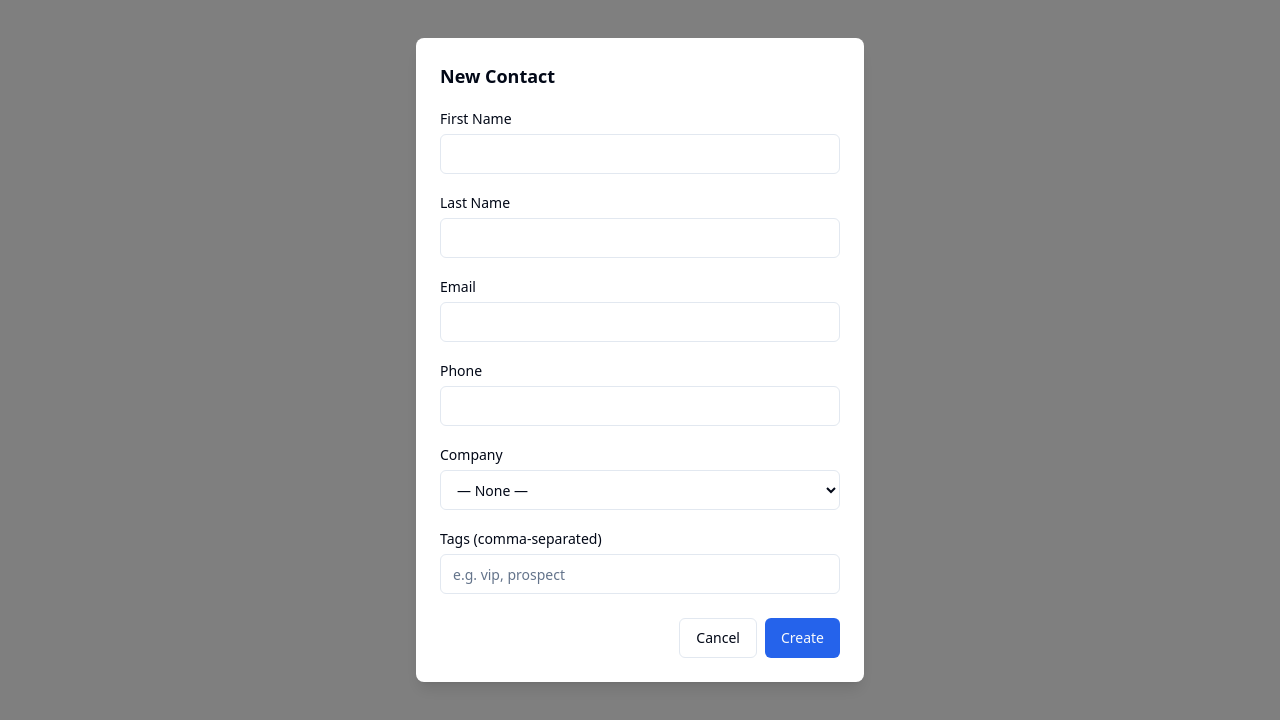
Test: CreateContact integration › shows email validation error for invalid email
This screenshot has width=1280, height=720.
Step 1. Type "Alice" into the field labelled "First Name" → x=640, y=154, box x1=440 y1=134 x2=840 y2=174
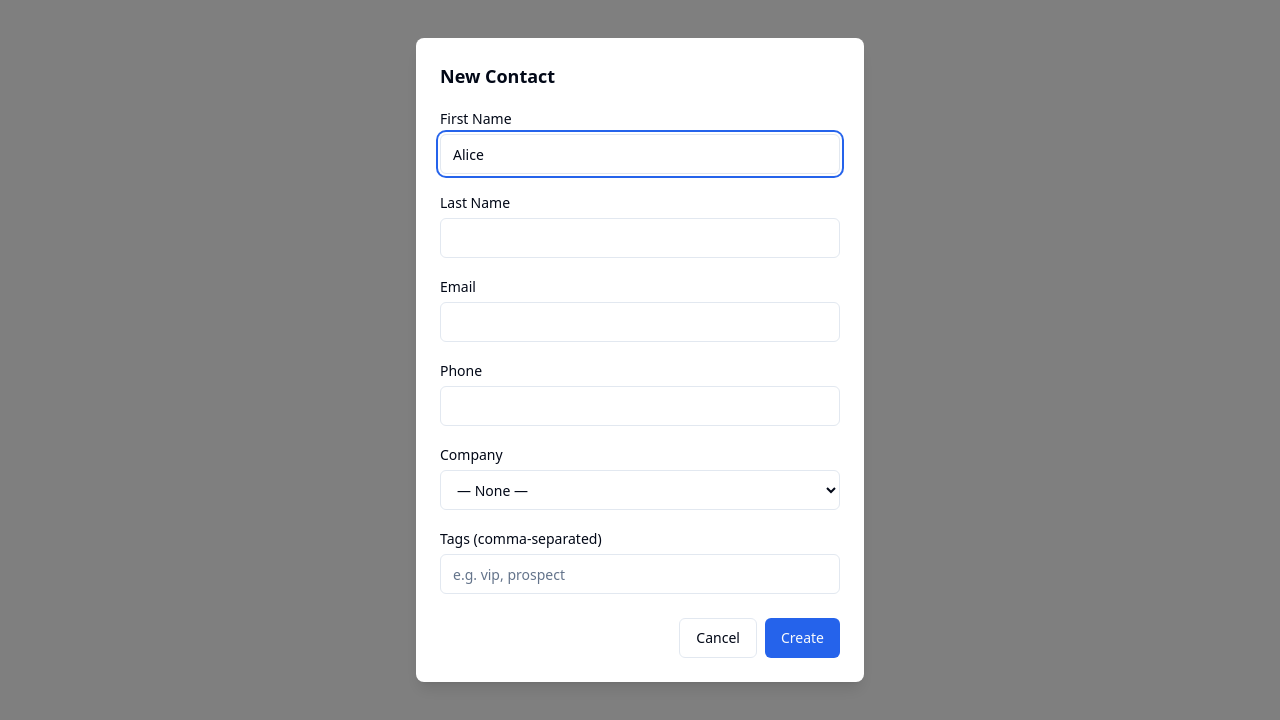
Step 2. Type "Smith" into the field labelled "Last Name" → x=640, y=238, box x1=440 y1=218 x2=840 y2=258
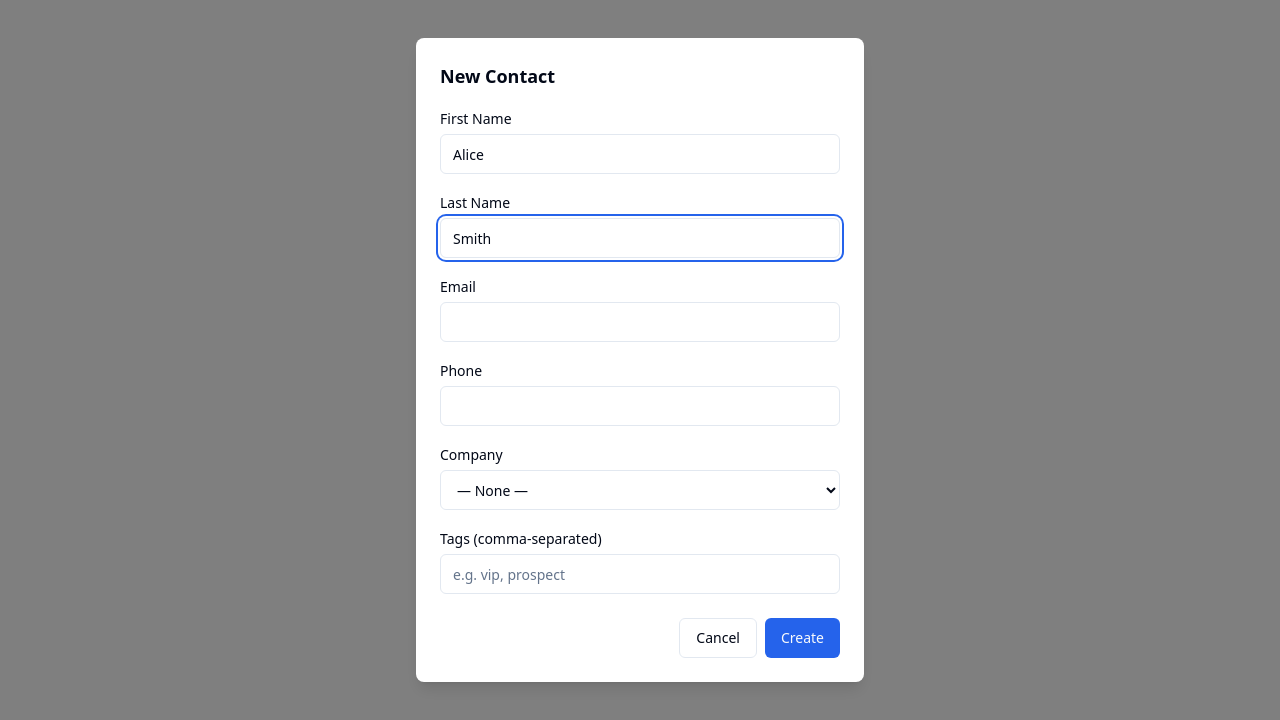
Step 3. Type "not-an-email" into the field labelled "Email" → x=640, y=322, box x1=440 y1=302 x2=840 y2=342
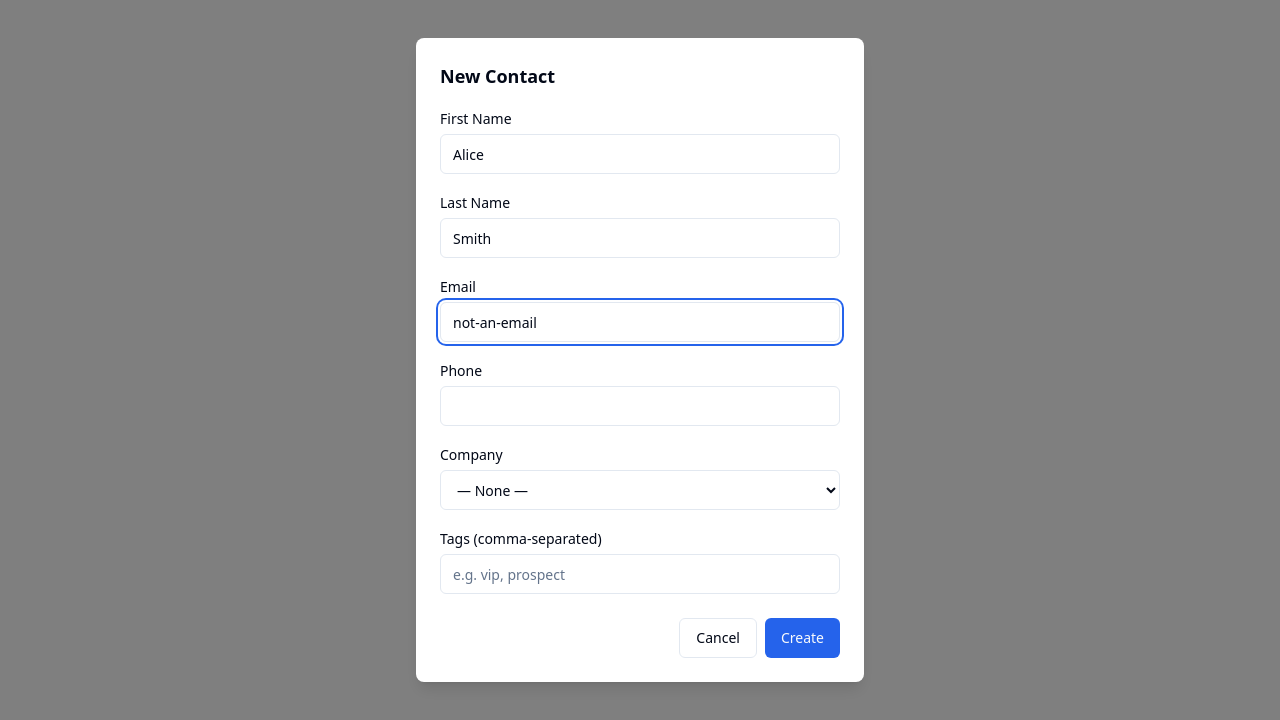
Step 4. Submit the form, box x1=440 y1=106 x2=840 y2=658
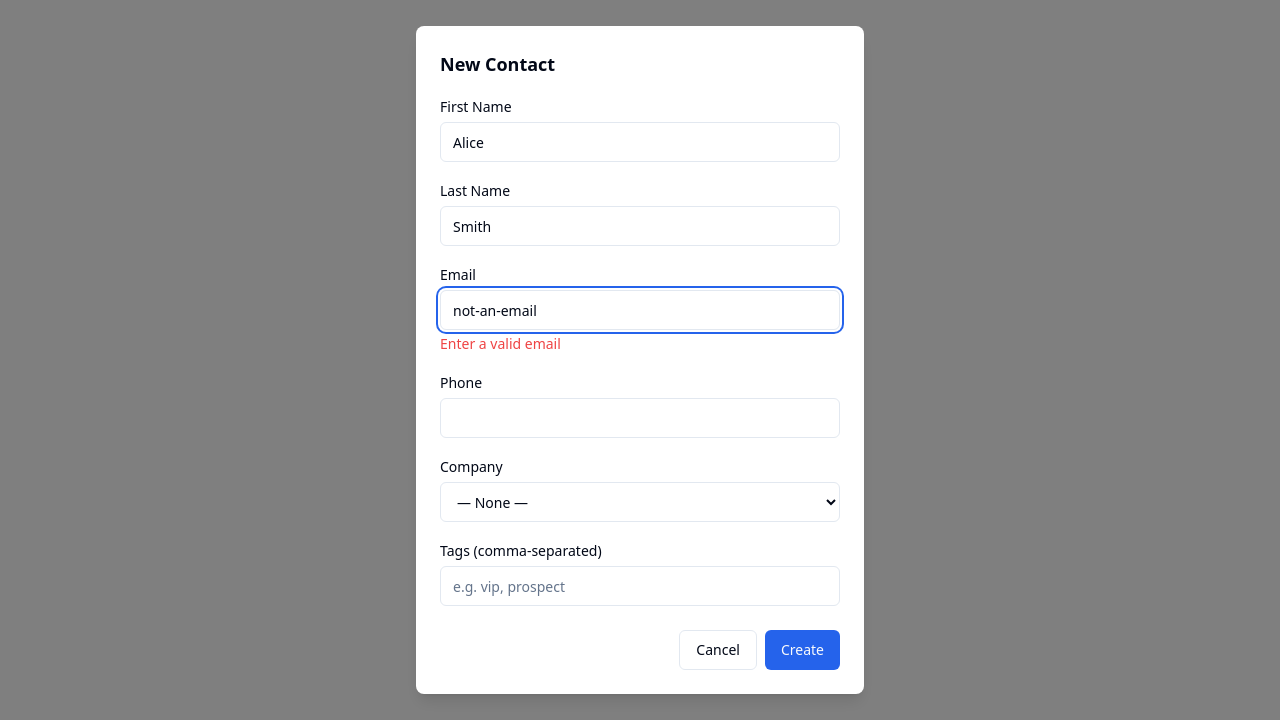
Now the text "Enter a valid email" is shown, box x1=440 y1=334 x2=561 y2=353
